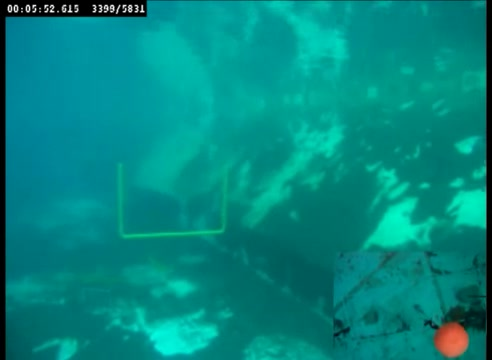channel: (114, 159, 232, 241)
